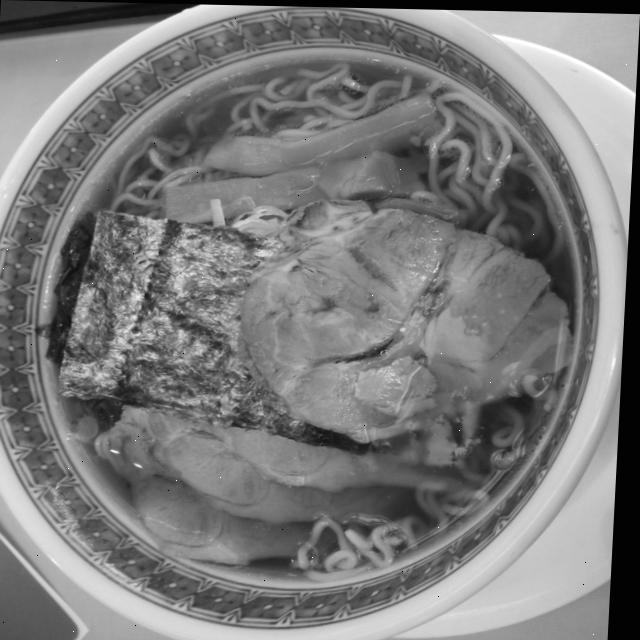面条主食: (58, 42, 585, 568)
